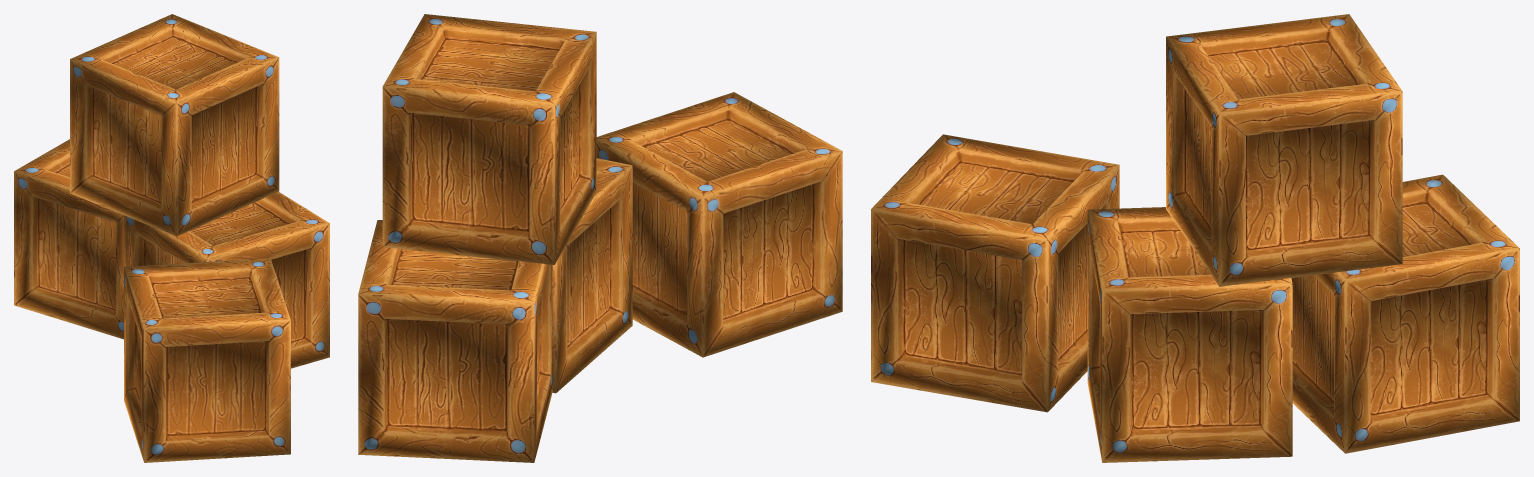
File: stylized_wooden_crate_box..glb
3 renders of one model, left to right at view 1: azimuth 30°, elevation 25°; view 2: azimuth 150°, elevation 25°; view 3: azimuth 270°, elevation 25°, orthographic. The views are drawn at different scales.
Visible parts, largest first — view 1: Object_2; view 2: Object_2; view 3: Object_2.
Boxes of the visible parts, <box> form: Object_2: <box>14,14,329,462</box>; Object_2: <box>358,14,842,462</box>; Object_2: <box>871,14,1519,462</box>.
Size of the model in its own units: 1.33 by 1.37 by 2.34.
1 material, 1 textured.
